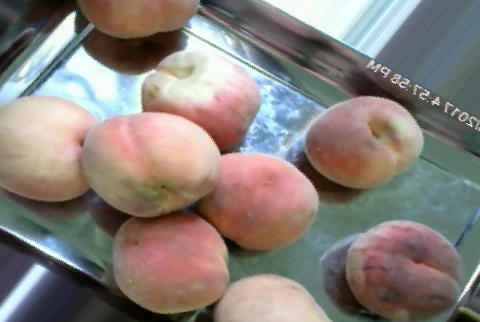Peach: (79, 110, 214, 216), (136, 45, 259, 155), (111, 212, 230, 315), (192, 155, 320, 249), (342, 219, 461, 320), (305, 96, 420, 188), (1, 96, 99, 202), (215, 274, 337, 322)
